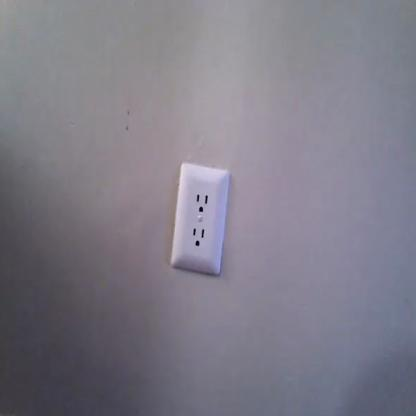OUTLET: (170, 164, 231, 275)
